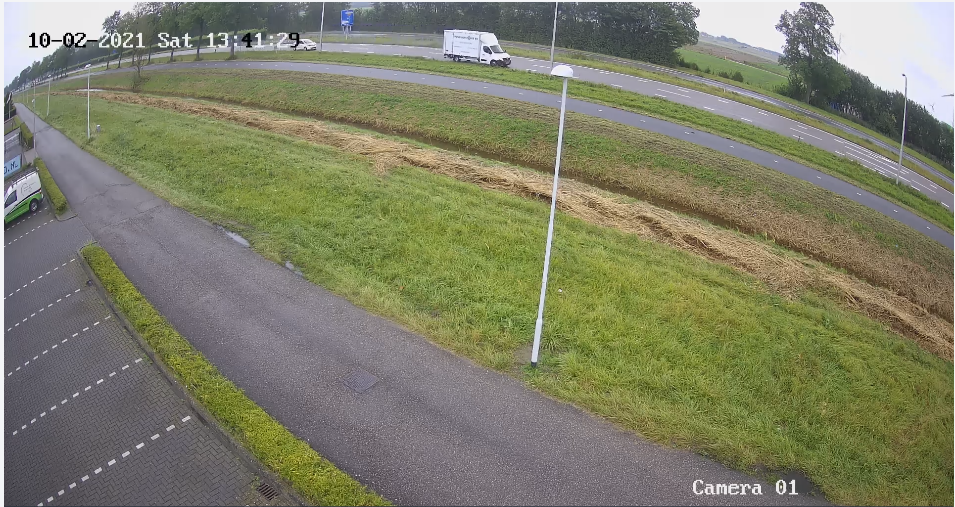werkbus: (438, 21, 513, 71)
